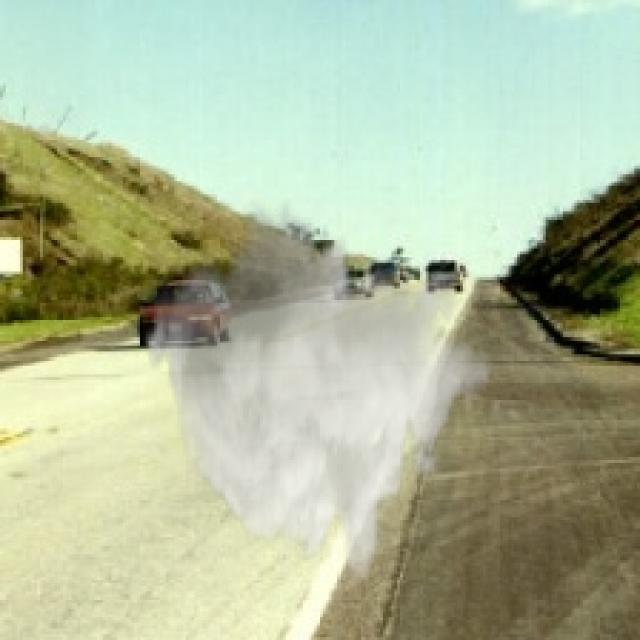Smoke: (142, 197, 494, 589)
